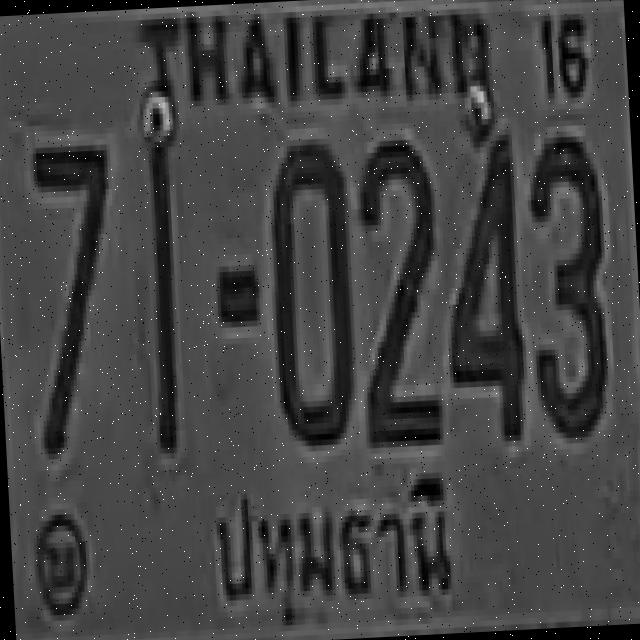0: (264, 138, 357, 448)
1: (141, 130, 187, 454)
2: (352, 130, 446, 446)
3: (522, 130, 612, 439)
4: (437, 121, 527, 441)
7: (28, 140, 120, 454)
PathumThani: (197, 470, 462, 630)
